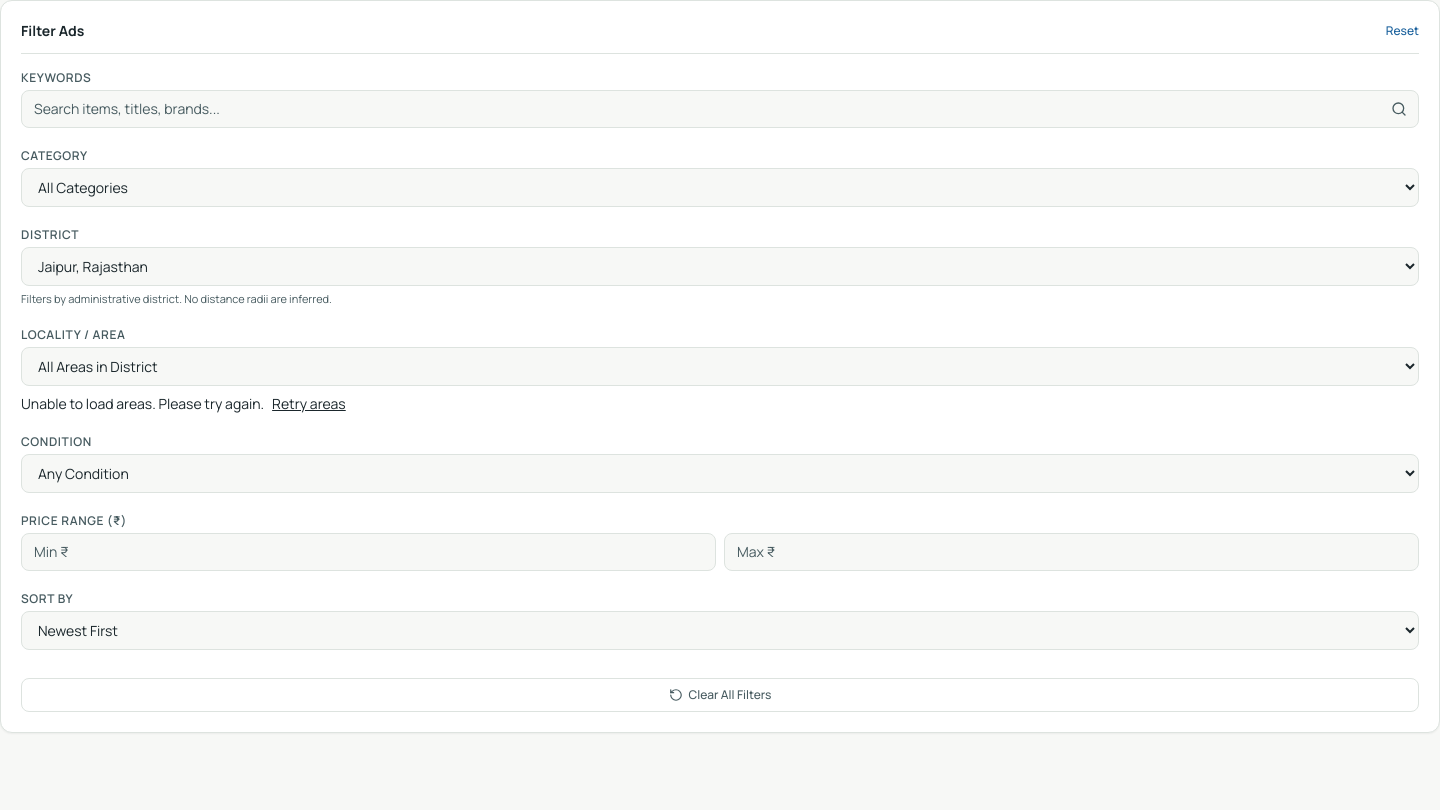
Test: SRCH-04: Active Filter Chips & Search Filters Integration › SRCH-04 locality and navigation regressions › distinguishes failure from empty and retries without navigating
Expected: the message "Unable to load areas. Please try again. Retry areas" is shown, x1=21 y1=394 x2=346 y2=414
Expected: the text "No areas available" is not shown
Click the button "Retry areas".
click(309, 404)  # box x1=272 y1=394 x2=346 y2=414
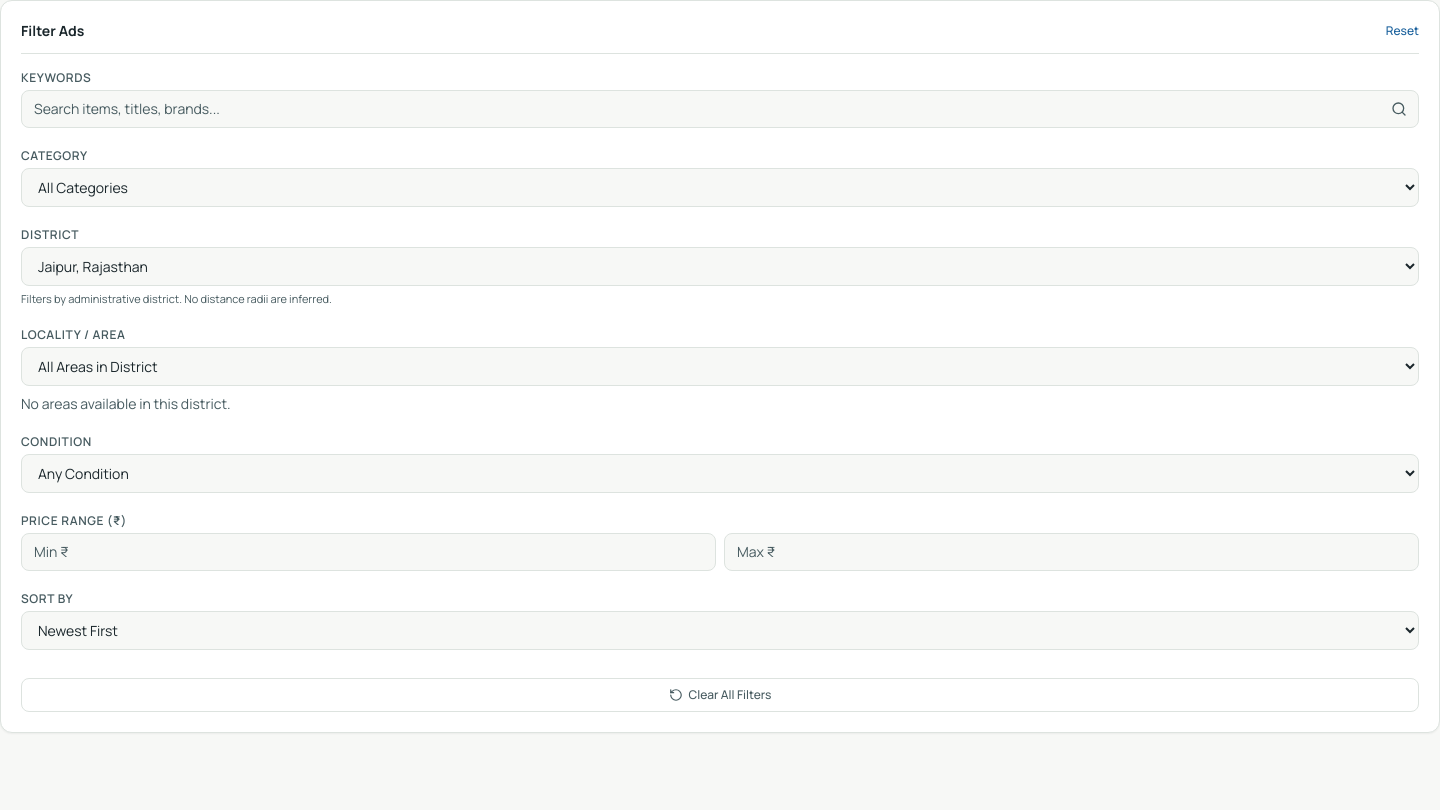
Expected: the text "No areas available in this district." is shown, x1=21 y1=394 x2=231 y2=413
